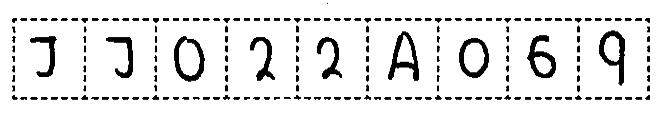0: (165, 32, 212, 86), (454, 33, 493, 82)
2: (243, 32, 283, 90), (309, 35, 349, 86)
6: (522, 32, 566, 83)
9: (593, 27, 635, 91)
A: (381, 27, 424, 85)
J: (99, 31, 141, 84), (26, 32, 64, 84)
